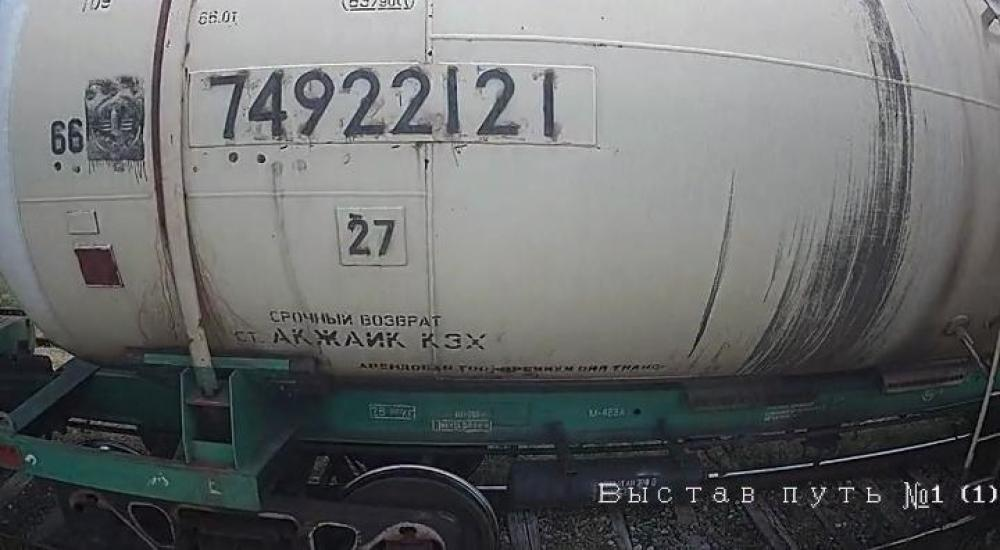Wagon-number: (196, 64, 560, 148)
